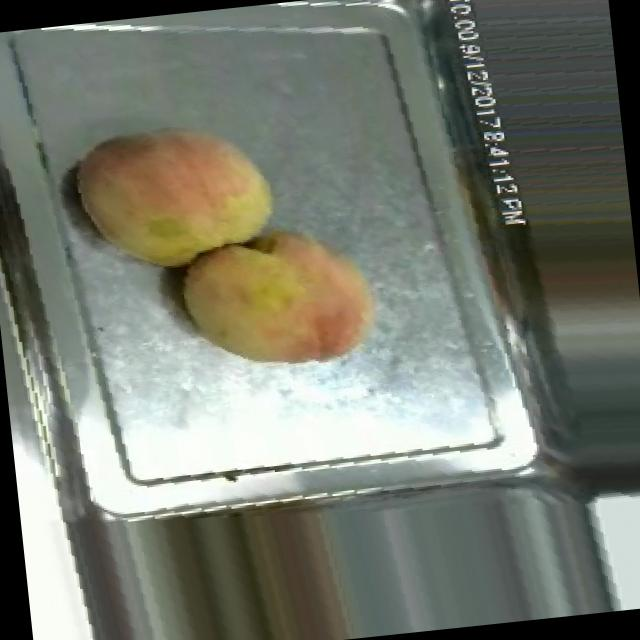Fruit: (52, 97, 298, 296), (158, 205, 395, 388)
